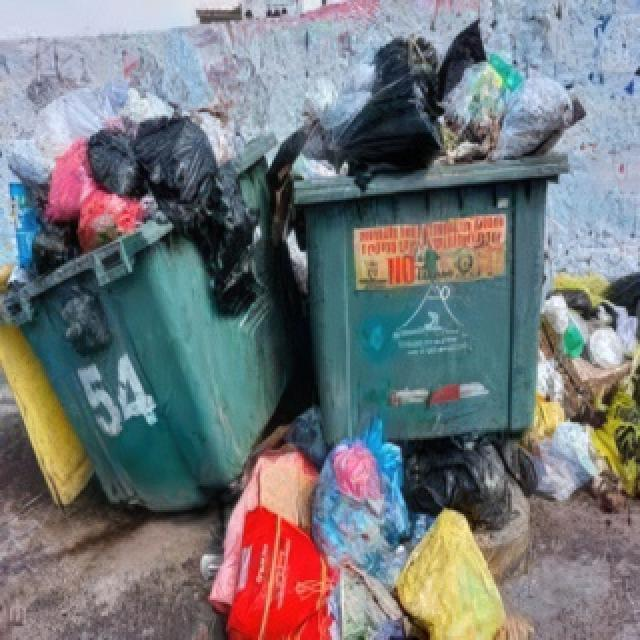Trashbag: (134, 112, 274, 349), (391, 430, 545, 528), (328, 79, 452, 177), (80, 104, 146, 207), (364, 32, 438, 96)
